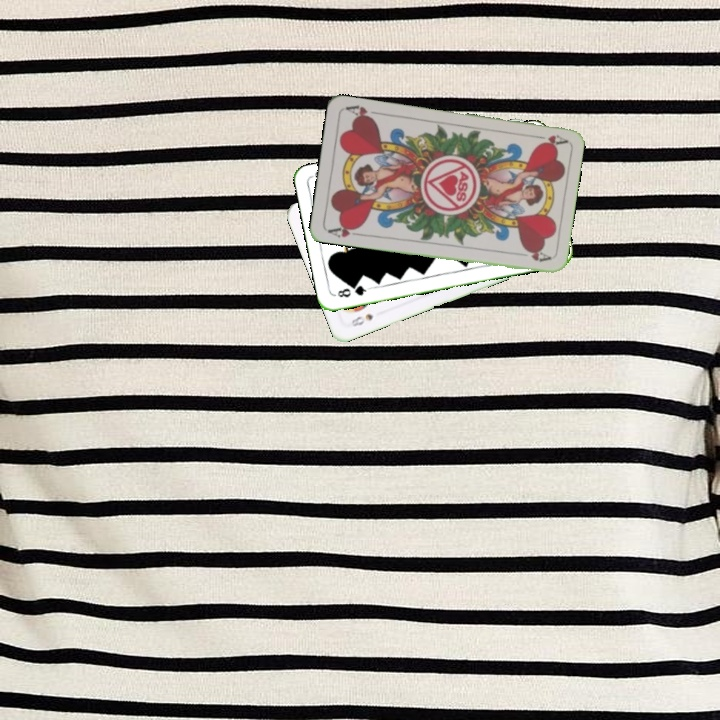G8: (333, 281, 372, 300)
HA: (324, 220, 365, 240), (528, 131, 569, 149)
S8: (345, 309, 376, 330)
